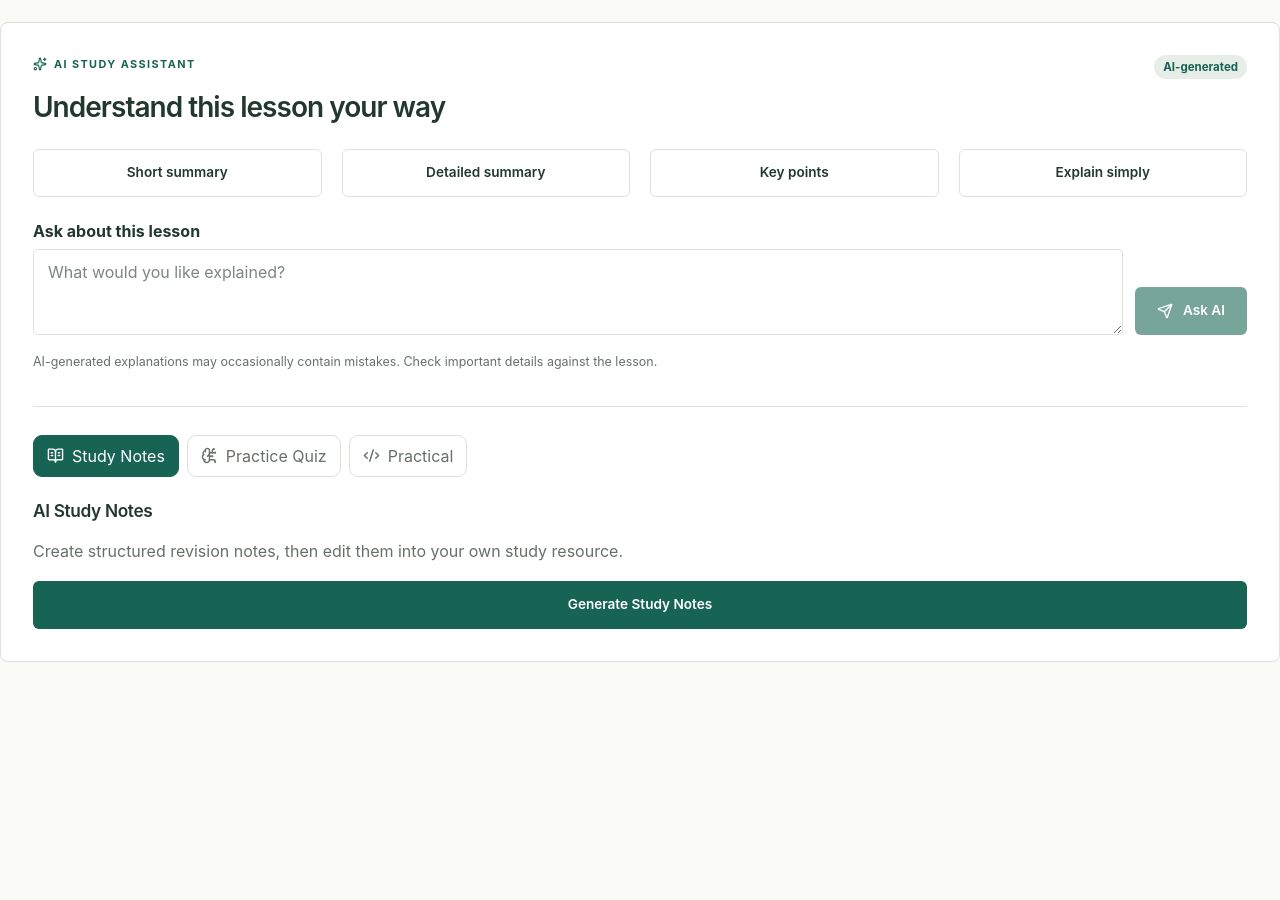
Test: validates lesson questions and shows API failures without fallback content
expect the button "Ask AI" is disabled: met, box [1135,287,1247,335]
In the text box labelled "Ask about this lesson": (578, 292) [33,249,1123,335], type "Explain this concept"
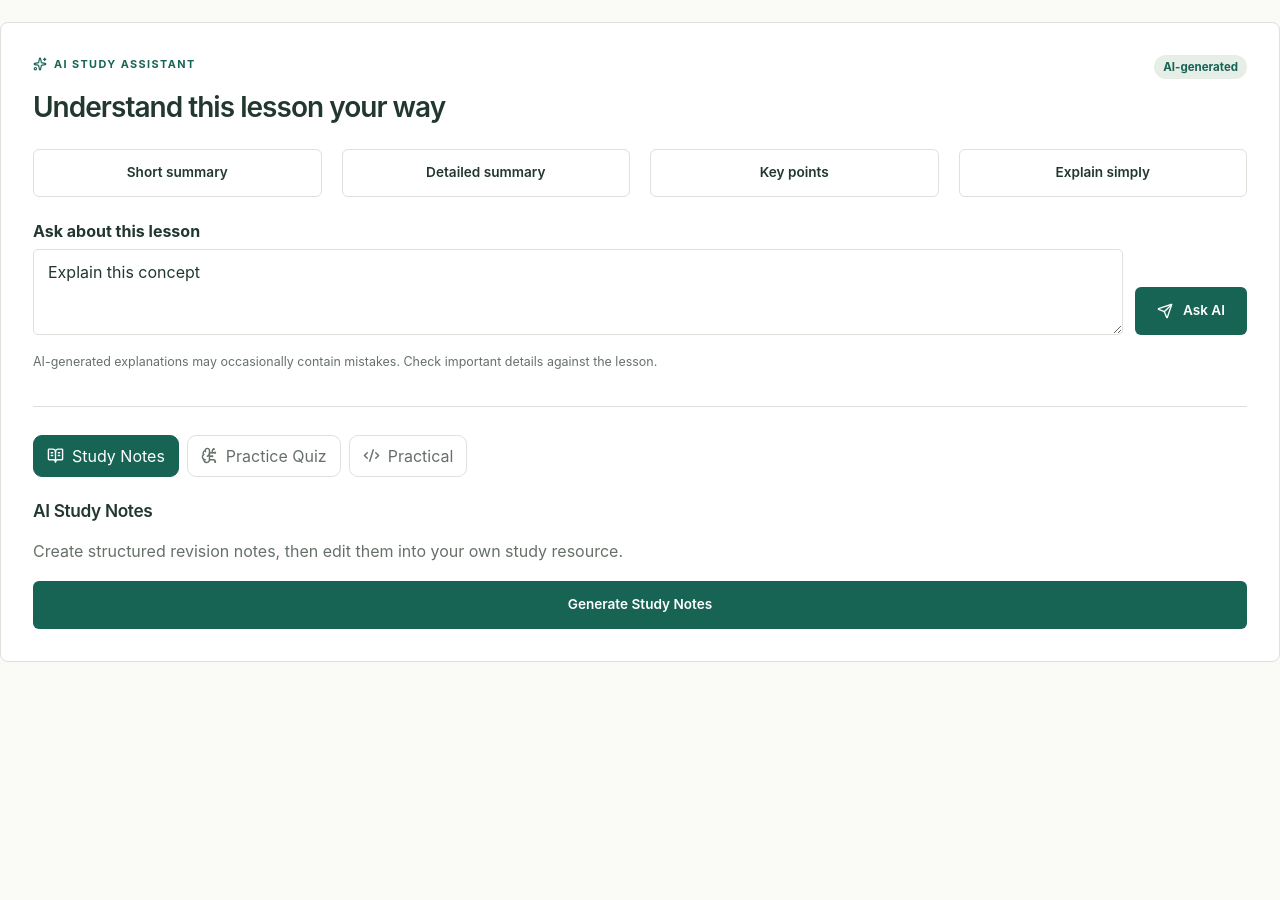
Click the button "Ask AI": (1191, 311) [1135,287,1247,335]
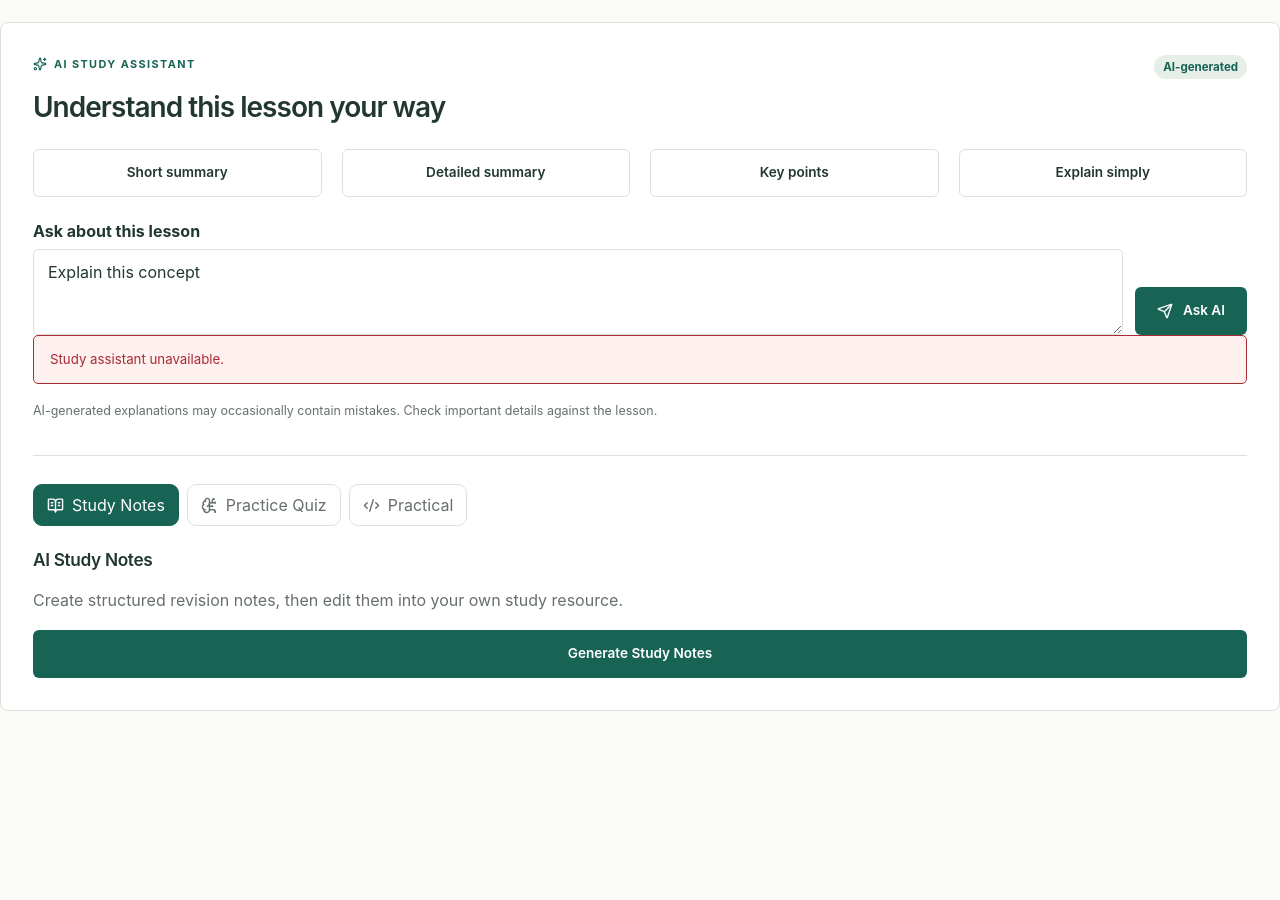
expect the message reads "Study assistant unavailable.": met, box [50,351,224,367]
